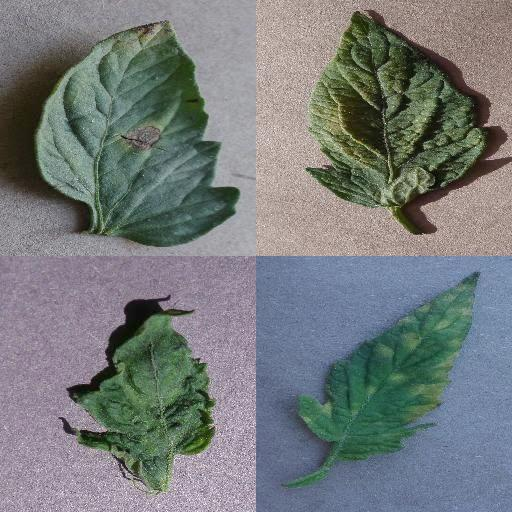Early Blight: (38, 17, 242, 249)
Leaf Mold: (298, 269, 480, 463)
Mosaic Virus: (64, 307, 218, 491)
Spider Mites: (305, 11, 485, 207)
